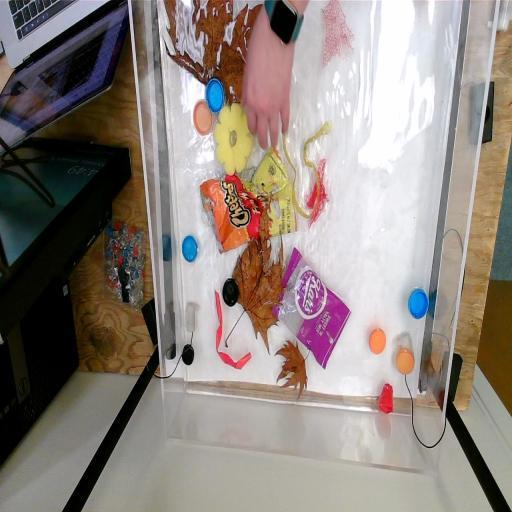Bottle Cap: (202, 74, 226, 114), (190, 99, 214, 137), (406, 286, 430, 321), (367, 324, 388, 360), (178, 233, 200, 267), (218, 275, 241, 307), (394, 346, 416, 378), (180, 341, 196, 367)
Cone Cap: (376, 380, 396, 420)
Leaf: (160, 0, 258, 102), (229, 238, 287, 351), (274, 336, 314, 404)
Netting: (318, 0, 358, 72), (303, 155, 332, 234)
Plastic Bag: (199, 143, 300, 258), (270, 243, 352, 376)
Plastic Strand: (280, 120, 334, 222), (210, 285, 252, 379)
Sponge: (210, 99, 253, 179)
